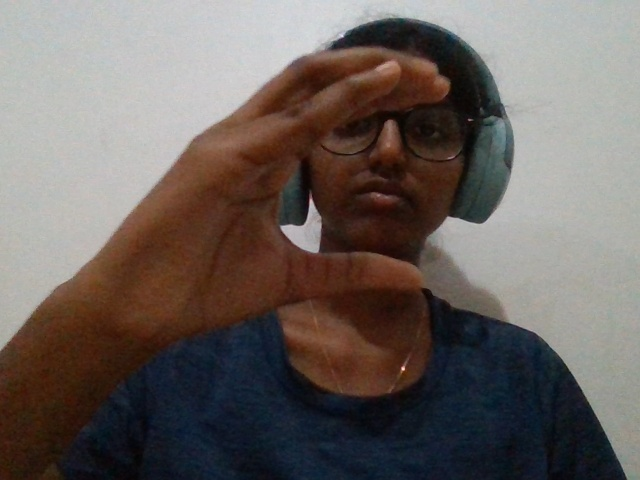C: (41, 1, 461, 424)
